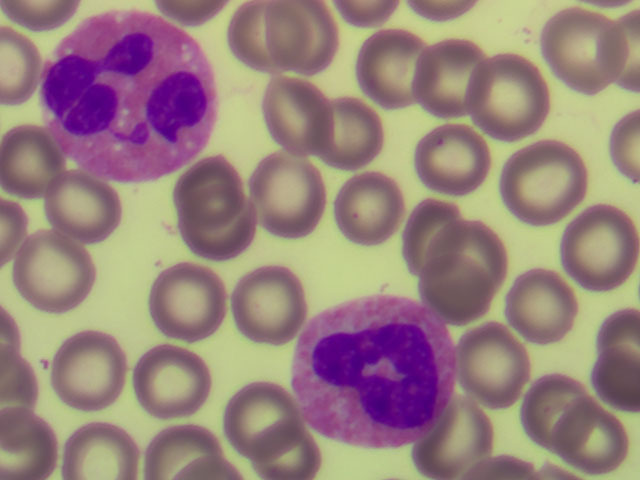RBC: (252, 71, 334, 154), (310, 92, 392, 175), (350, 29, 432, 112), (224, 1, 306, 84), (410, 35, 492, 118), (466, 56, 548, 139), (540, 9, 622, 92), (508, 136, 590, 219), (409, 118, 491, 201), (385, 186, 467, 269), (332, 169, 414, 252), (254, 156, 336, 239), (167, 143, 249, 226), (173, 184, 255, 267), (42, 162, 124, 245), (1, 117, 83, 200), (14, 226, 96, 309), (44, 327, 126, 410), (131, 342, 213, 425), (57, 397, 139, 480), (148, 260, 230, 343), (230, 263, 312, 346), (214, 373, 296, 456), (459, 323, 541, 406), (510, 271, 592, 354), (448, 208, 530, 291), (415, 244, 497, 327), (558, 203, 640, 286), (506, 364, 588, 447), (546, 391, 628, 474), (417, 397, 499, 480), (275, 1, 357, 83), (147, 418, 220, 480), (251, 426, 323, 480)
WBC: (42, 13, 218, 176), (298, 296, 460, 446)
